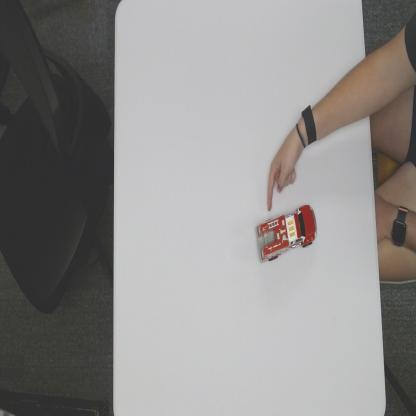Arm: (319, 42, 372, 143)
Firetruck: (255, 204, 318, 264)
Hand: (267, 125, 304, 211)
